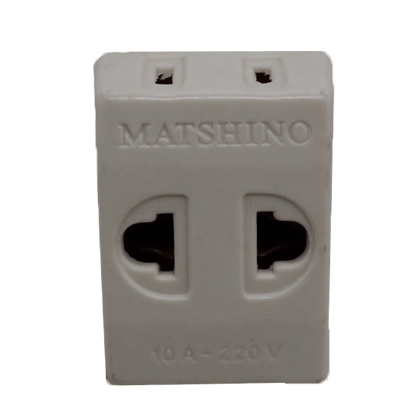Three_eye_plug: (86, 41, 340, 390)
